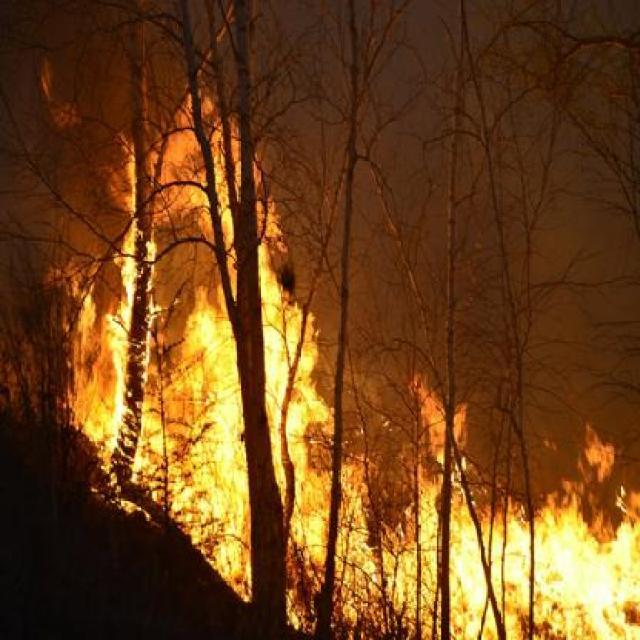Fire: (37, 41, 355, 633), (370, 380, 640, 640)
